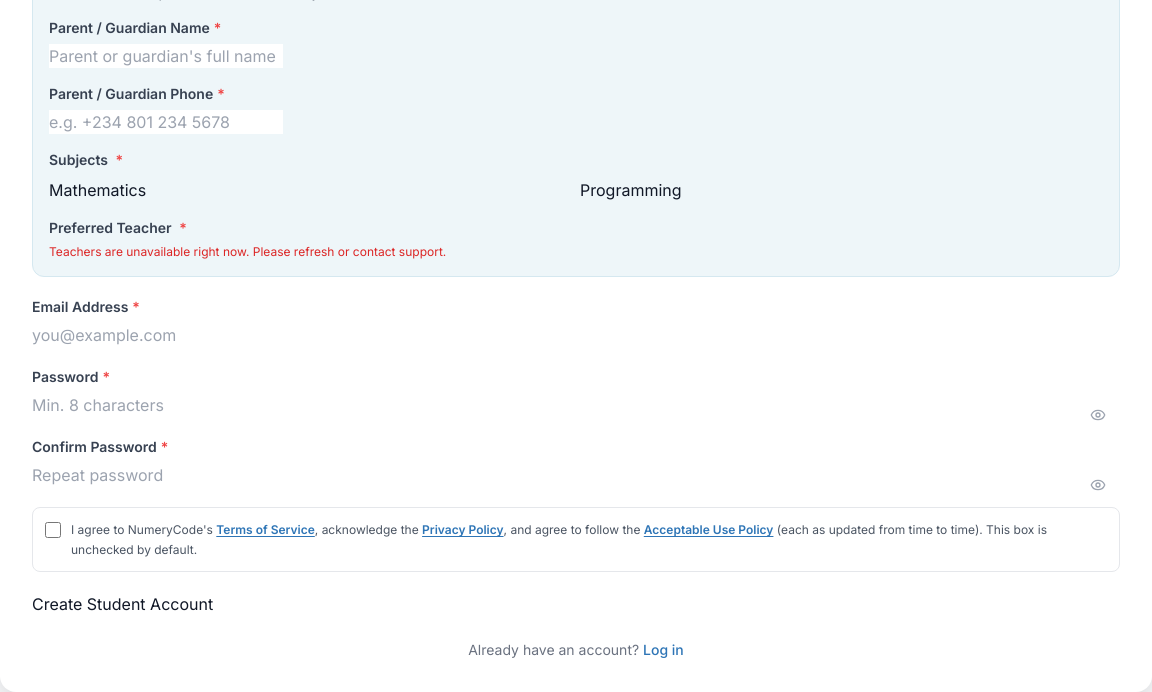
Test: RegisterPage › shows strong strength for 10+ char password
(page scrolled)
Type "strongpassword" into the password field with placeholder "Min. 8 characters". click: [149, 405]
box: [32,393,266,417]
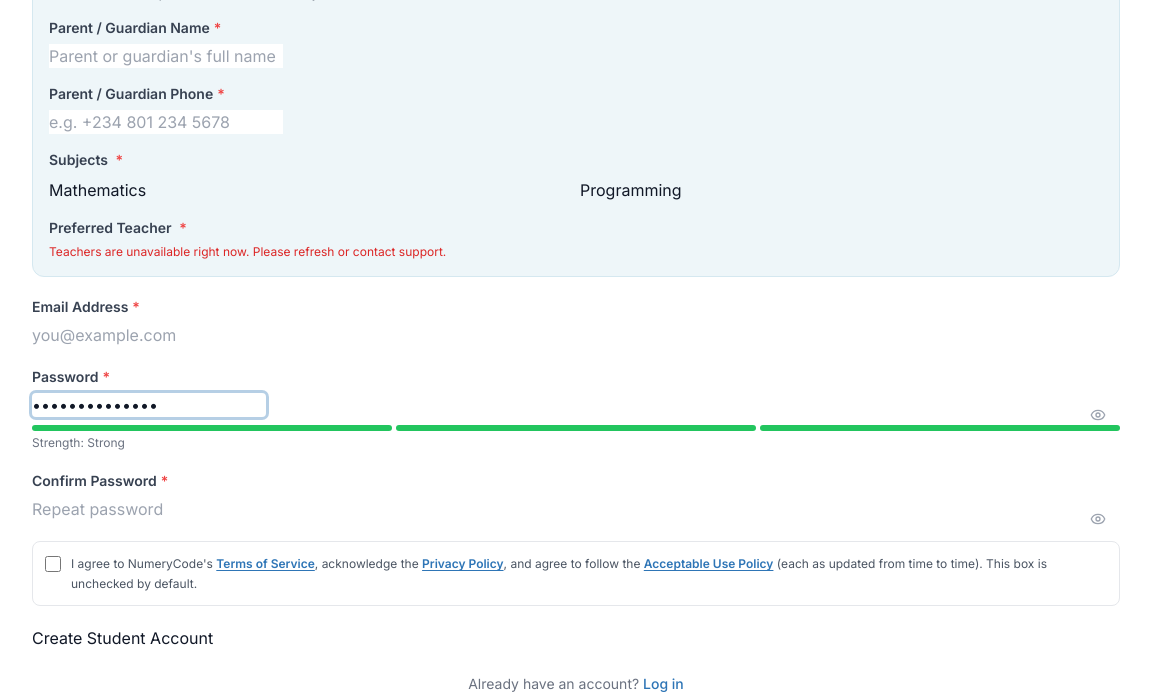
Expected: the text "Strength: Strong" is shown, [32,435,125,450]
